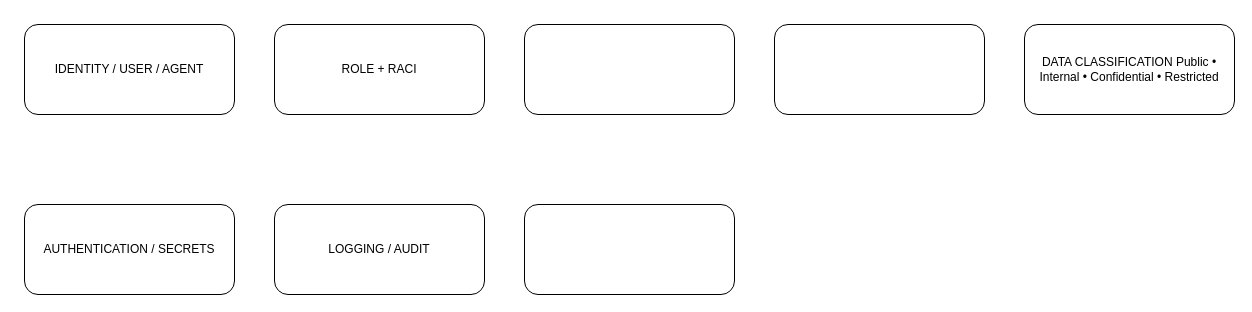
This 1252x312 diagram has some shape labels left out. Each missing label, with the centre of its shape:
LEAST-PRIVILEGE ACCESS: point (629, 69)
REVIEW / REVOKE / ROTATE: point (629, 249)
SYSTEM / REPOSITORY: point (879, 69)
